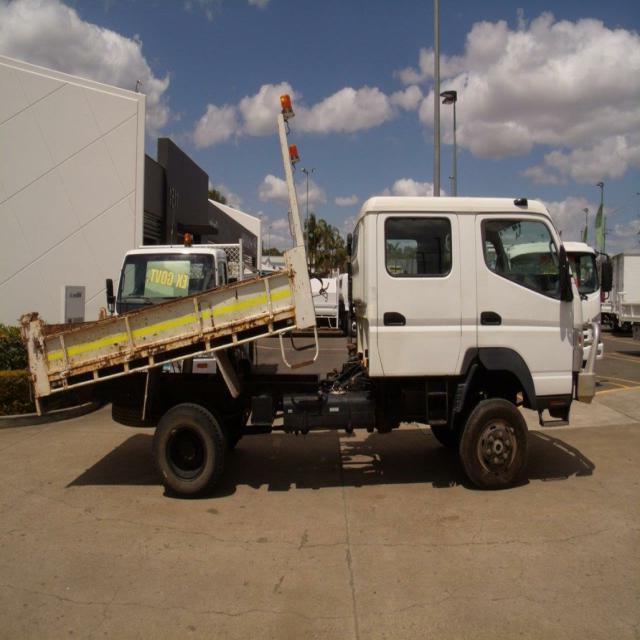truck: (21, 94, 602, 496)
